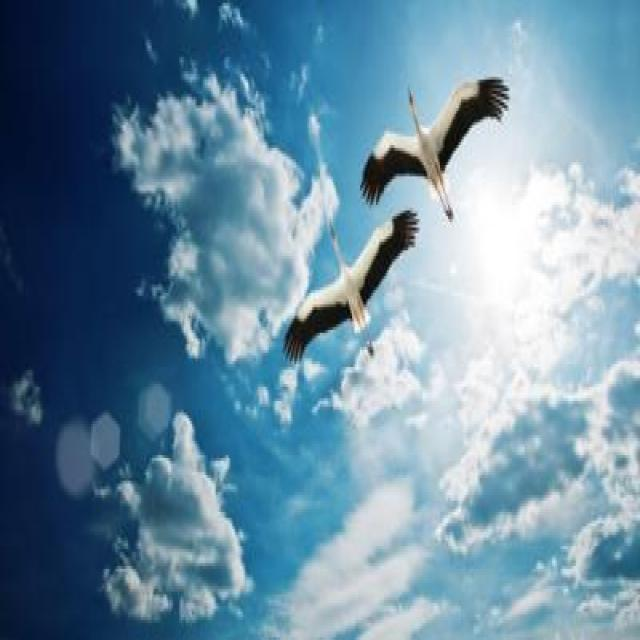birds: (350, 63, 522, 226), (272, 208, 427, 371)
